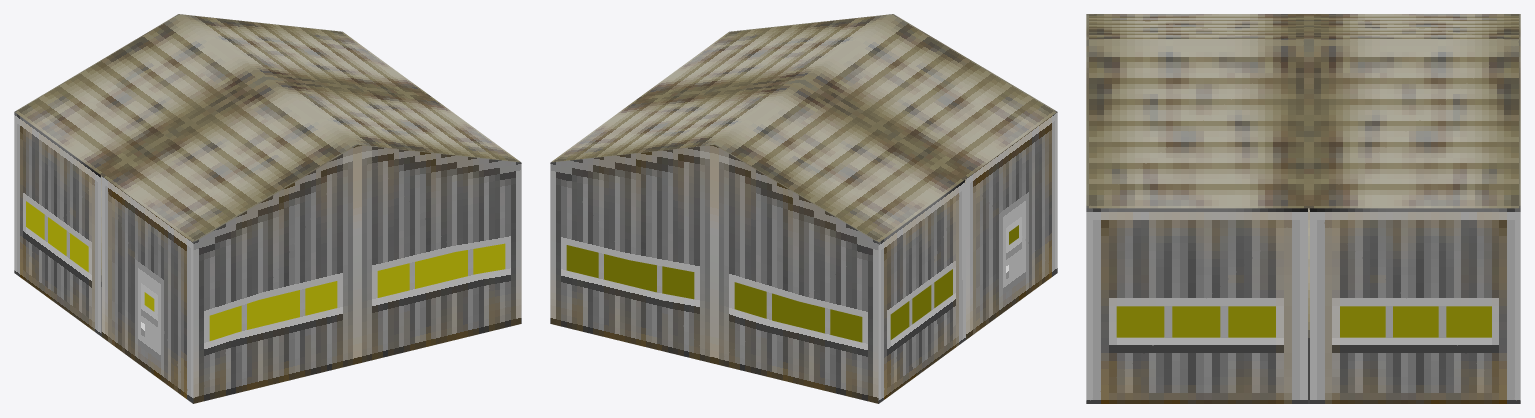
Rendered from shack.glb.
3 views of the same model, side by side, from view 1: azimuth 30°, elevation 25°; view 2: azimuth 150°, elevation 25°; view 3: azimuth 270°, elevation 25° (orthographic). The views are drawn at different scales.
Visible parts, largest first — view 1: Shack, LitWin_Shack; view 2: Shack, LitWin_Shack; view 3: Shack, LitWin_Shack.
Boxes of the visible parts, bbox=[...] form: Shack: bbox=[14, 14, 521, 403]; LitWin_Shack: bbox=[26, 201, 505, 340]; Shack: bbox=[550, 14, 1057, 403]; LitWin_Shack: bbox=[566, 225, 1018, 342]; Shack: bbox=[1086, 14, 1520, 403]; LitWin_Shack: bbox=[1116, 306, 1491, 337].
Size of the model in its own units: 6.06 by 3.86 by 5.72.
Materials: 1 (1 with a texture image).
